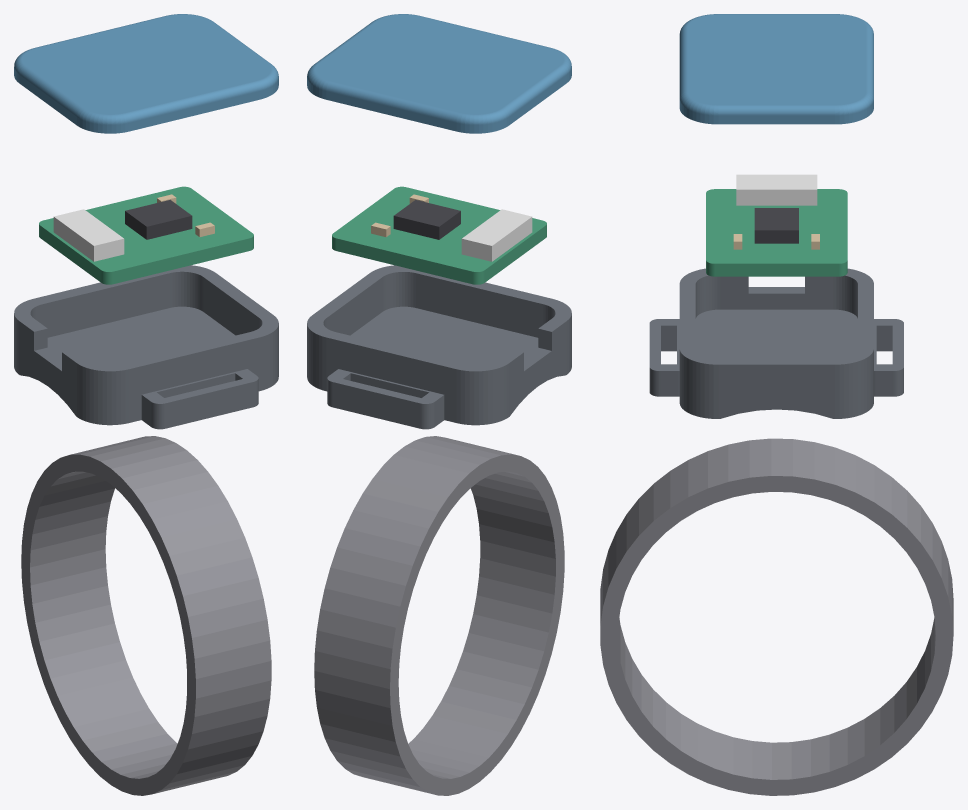
The model's file is ring_exploded.glb.
3 renders of one model, left to right at view 1: azimuth 30°, elevation 25°; view 2: azimuth 150°, elevation 25°; view 3: azimuth 270°, elevation 25°, orthographic.
Parts seen in each view (by area): view 1: 000_strap, 001_base, 007_lid, 002_pcb, 004_conn, 003_chip; view 2: 000_strap, 001_base, 007_lid, 002_pcb, 004_conn, 003_chip; view 3: 000_strap, 001_base, 007_lid, 002_pcb, 004_conn, 003_chip.
Boxes of the visible parts, left/top/right/bottom form: 000_strap: left=21, top=436, right=271, bottom=795; 001_base: left=14, top=265, right=278, bottom=429; 007_lid: left=14, top=14, right=278, bottom=133; 002_pcb: left=39, top=186, right=253, bottom=284; 004_conn: left=53, top=209, right=124, bottom=261; 003_chip: left=125, top=199, right=192, bottom=239; 000_strap: left=314, top=436, right=564, bottom=795; 001_base: left=307, top=265, right=571, bottom=429; 007_lid: left=307, top=14, right=571, bottom=133; 002_pcb: left=332, top=186, right=546, bottom=284; 004_conn: left=461, top=209, right=532, bottom=261; 003_chip: left=393, top=200, right=460, bottom=239; 000_strap: left=600, top=438, right=953, bottom=795; 001_base: left=649, top=268, right=903, bottom=418; 007_lid: left=679, top=14, right=873, bottom=124; 002_pcb: left=706, top=189, right=847, bottom=276; 004_conn: left=736, top=174, right=817, bottom=205; 003_chip: left=754, top=208, right=798, bottom=243.
Bounding box in the file's own units: 0.013 × 0.0448 × 0.02.
